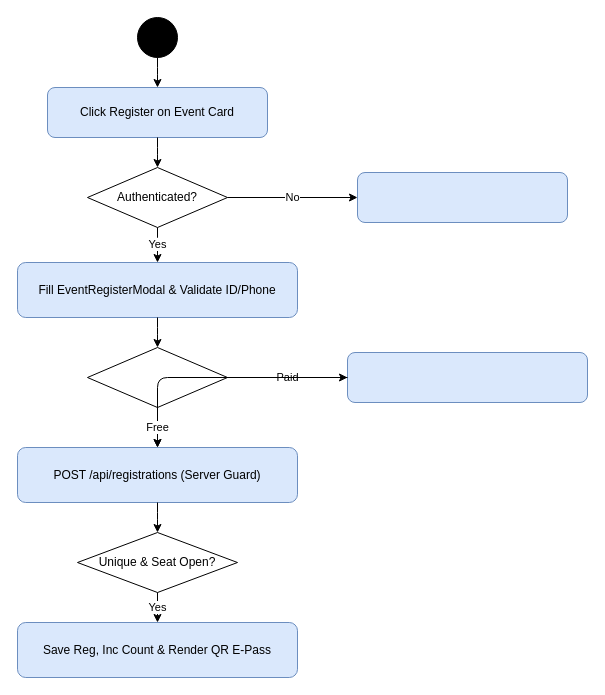
The diagram is 605 pixels wide and 695 high, and some of its shapes have lost their labels. Here are the shapes that lost their labels. From the top down, the centre of each, then its label:
At point (462, 197): "Open AuthModal Login/Register".
At point (157, 377): "Paid Event?".
At point (467, 377): "Enter 12-Digit UTR (unless Cash at SAC)".
